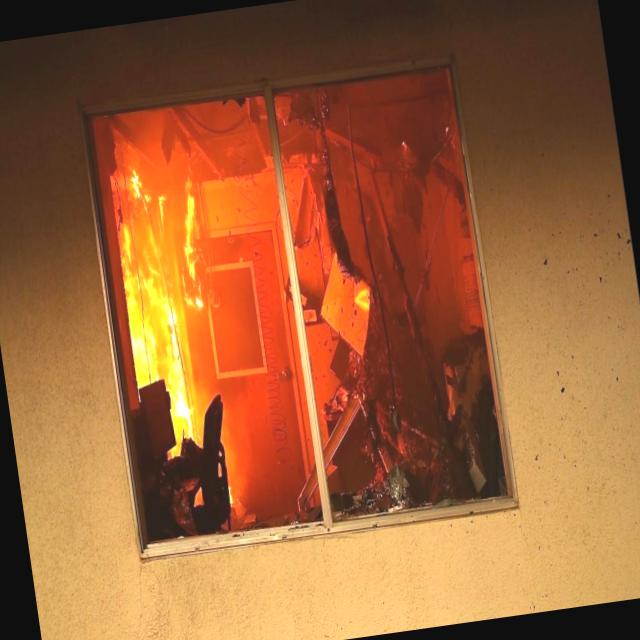fire: (92, 123, 238, 464)
